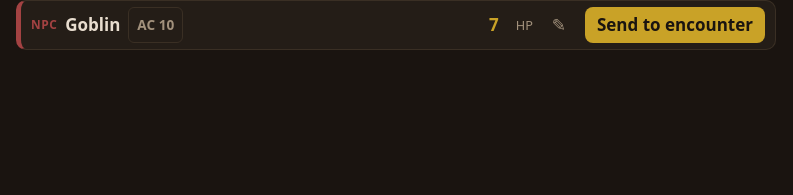
Scenario: CatalogRow › saves a rename from the edit panel and closes it
This screenshot has width=793, height=195.
Click the button named "edit goblin" at [559, 25], box top-left (541, 7), bottom-right (577, 43)
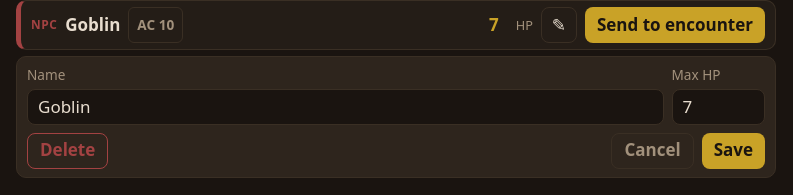
Replace the text in the field labelled "Name" with "Hobgoblin" at [345, 107], box top-left (27, 89), bottom-right (664, 125)
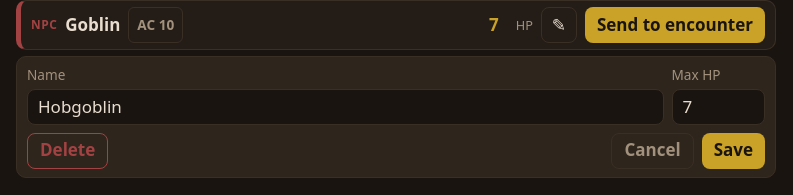
Click the button "Save" at [733, 151], box top-left (702, 133), bottom-right (765, 169)
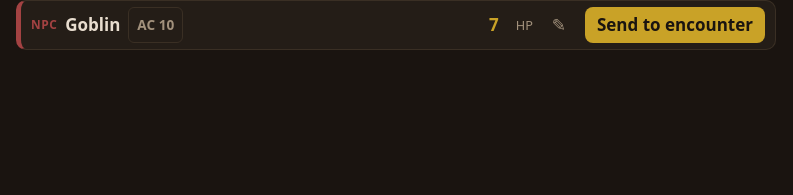
Expected: the text labelled "Name" is gone
